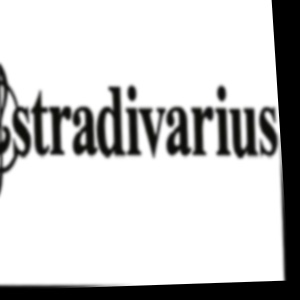stradivarius: (269, 6, 277, 77)
